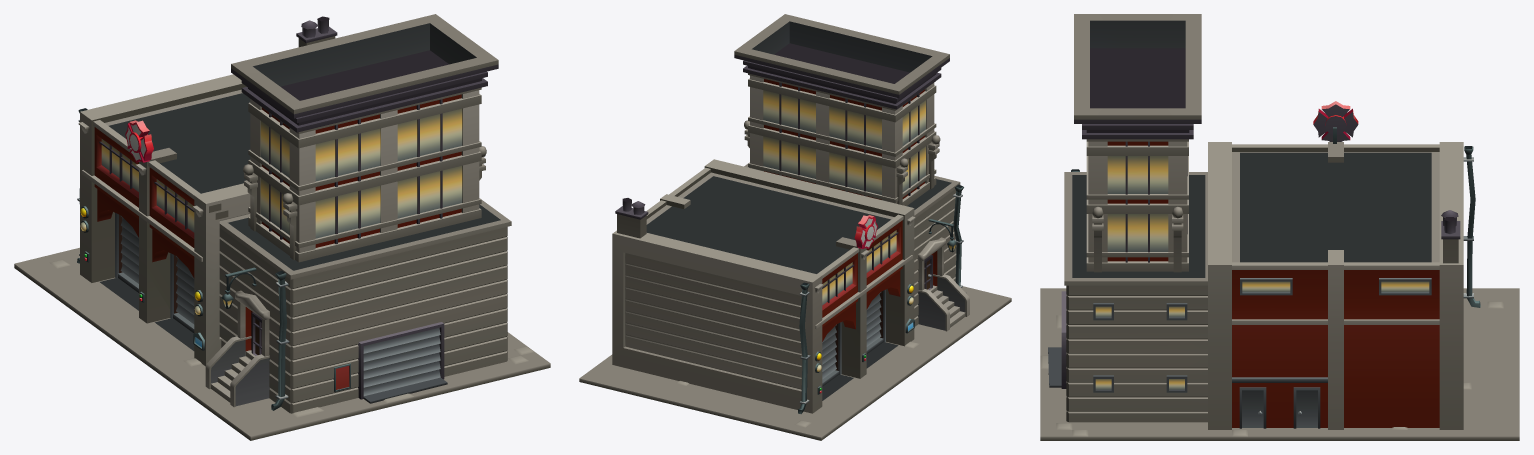
Rendered from Building_17C.fbx.
3 views of the same model, side by side, from view 1: azimuth 30°, elevation 25°; view 2: azimuth 150°, elevation 25°; view 3: azimuth 270°, elevation 25° (orthographic). The views are drawn at different scales.
Visible parts, largest first — view 1: Building_17C, Window_Lights_17C, Addon_Gate_17C.R, Addon_Gate_17C.L, Logo_17C; view 2: Building_17C, Window_Lights_17C, Addon_Gate_17C.R, Addon_Gate_17C.L, Logo_17C; view 3: Building_17C, Window_Lights_17C, Logo_17C.
Boxes of the visible parts, x1,y1,x2,y2 form: Building_17C: (14, 14, 550, 440); Window_Lights_17C: (101, 108, 462, 238); Addon_Gate_17C.R: (173, 256, 194, 333); Addon_Gate_17C.L: (118, 216, 138, 292); Logo_17C: (125, 120, 153, 162); Building_17C: (579, 14, 1011, 440); Window_Lights_17C: (763, 90, 925, 305); Addon_Gate_17C.R: (866, 292, 883, 353); Addon_Gate_17C.L: (822, 324, 839, 386); Logo_17C: (854, 215, 877, 248); Building_17C: (1040, 14, 1519, 440); Window_Lights_17C: (1095, 156, 1429, 389); Logo_17C: (1313, 101, 1358, 143).
Bounding box in the file's own units: 2200 × 2130 × 3000.
